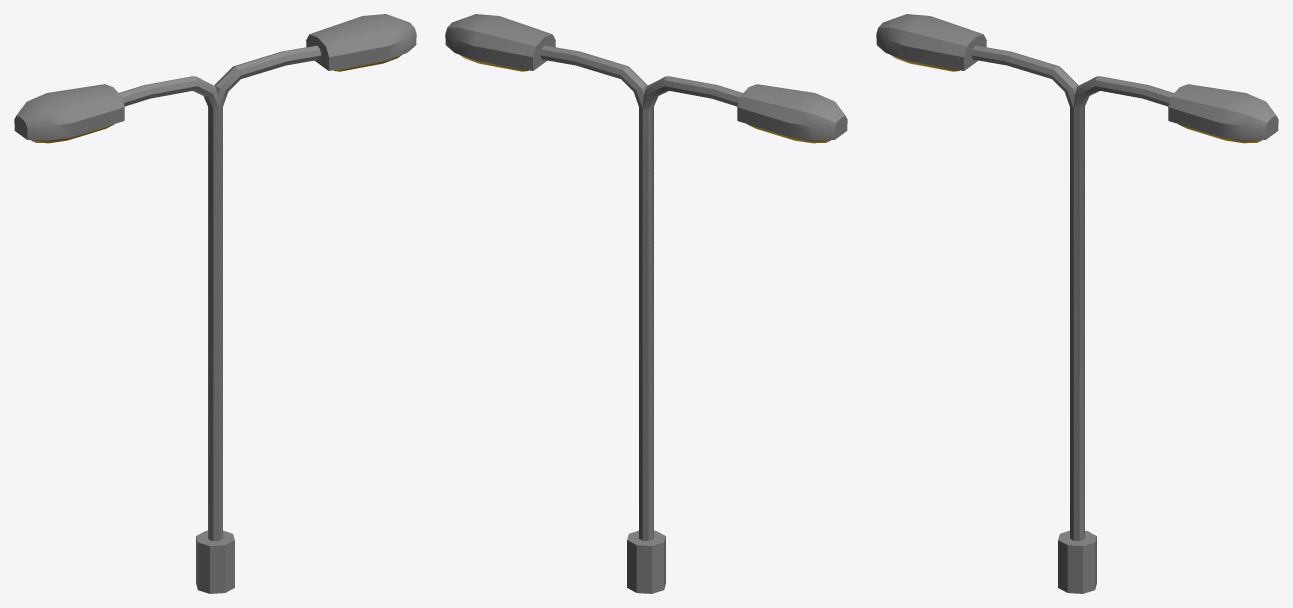
The model's file is street-light-double.fbx.
3 views of the same model, side by side, from view 1: azimuth 30°, elevation 25°; view 2: azimuth 150°, elevation 25°; view 3: azimuth 330°, elevation 25° (orthographic).
Parts seen in each view (by area): view 1: 3.1 street-light-double; view 2: 3.1 street-light-double; view 3: 3.1 street-light-double.
Boxes of the visible parts, x1,y1,x2,y2 form: 3.1 street-light-double: (14, 14, 416, 593); 3.1 street-light-double: (445, 14, 847, 593); 3.1 street-light-double: (876, 14, 1278, 593).
Bounding box in the file's own units: 3.86 × 5 × 0.5157.
